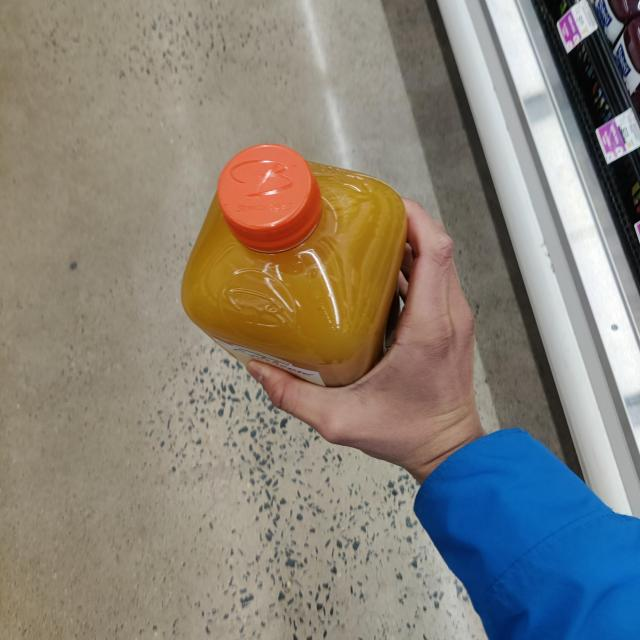Juice: (165, 137, 456, 410)
